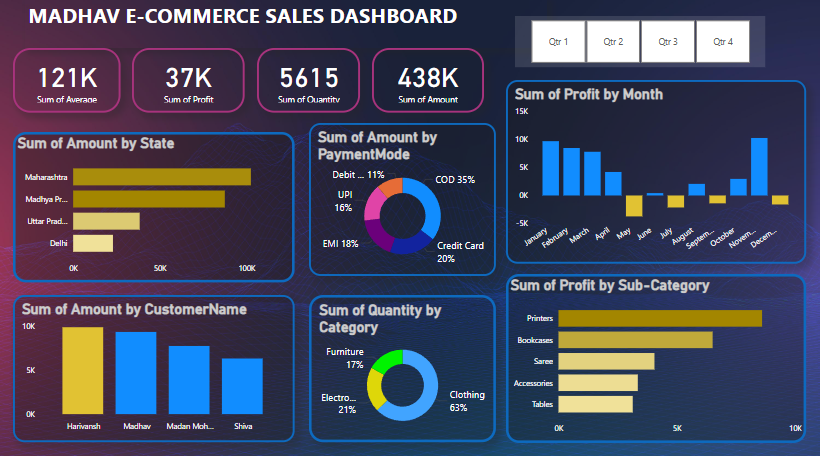

Layout of this report page (visuals, bound fields, positions):
{"tool":"powerbi","page":{"name":"Page 1","canvas":[1280,720],"ordinal":0},"visuals":[{"type":"textbox","box":[38.6,0,814.7,79],"z":0},{"type":"columnChart","fields":{"Y":["Details.Profit"],"Category":["Orders.Order Date.Variation.Date Hierarchy.Month"]},"box":[791.2,129.3,468.7,287.2],"z":1000},{"type":"clusteredBarChart","fields":{"Y":["Details.Profit"],"Category":["Details.Sub-Category"]},"box":[791.2,433.4,468.7,263.7],"z":2000},{"type":"donutChart","fields":{"Category":["Details.Category"],"Y":["Details.Quantity"]},"box":[482.1,465.3,292.3,230.1],"z":3000},{"type":"donutChart","fields":{"Category":["Details.PaymentMode"],"Y":["Details.Amount"]},"box":[482.1,196.5,292.3,238.5],"z":4000},{"type":"card","fields":{"Values":["Details.Amount"]},"box":[581.2,79,174.7,100.8],"z":5000},{"type":"card","fields":{"Values":["Details.Quantity"]},"box":[401.5,79,161.3,100.8],"z":6000},{"type":"card","fields":{"Values":["Details.Profit"]},"box":[206.6,79,176.4,100.8],"z":7000},{"type":"card","fields":{"Values":["Details.Average"]},"box":[20.2,79,168,100.8],"z":8000},{"type":"clusteredBarChart","fields":{"Y":["Details.Amount"],"Category":["Orders.State"]},"box":[20.2,211.7,440.1,235.2],"z":9000},{"type":"columnChart","fields":{"Category":["Orders.CustomerName"],"Y":["Details.Amount"]},"box":[20.2,465.3,440.1,230.1],"z":10000},{"type":"slicer","fields":{"Values":["Orders.Order Date.Variation.Date Hierarchy.Quarter"]},"box":[804.7,29.7,390.6,79.7],"z":11000}]}

Visuals, with their boxes in screenshot pixels (x1, y1, x2, y2), scaled from the page's 1280x720 canvas onto the 820x456 screenshot:
textbox: l=25, t=0, r=547, b=50
columnChart - Details.Profit x Orders.Order Date.Variation.Date Hierarchy.Month: l=507, t=82, r=807, b=264
clusteredBarChart - Details.Profit x Details.Sub-Category: l=507, t=274, r=807, b=441
donutChart - Details.Category x Details.Quantity: l=309, t=295, r=496, b=440
donutChart - Details.PaymentMode x Details.Amount: l=309, t=124, r=496, b=276
card - Details.Amount: l=372, t=50, r=484, b=114
card - Details.Quantity: l=257, t=50, r=361, b=114
card - Details.Profit: l=132, t=50, r=245, b=114
card - Details.Average: l=13, t=50, r=121, b=114
clusteredBarChart - Details.Amount x Orders.State: l=13, t=134, r=295, b=283
columnChart - Orders.CustomerName x Details.Amount: l=13, t=295, r=295, b=440
slicer - Orders.Order Date.Variation.Date Hierarchy.Quarter: l=516, t=19, r=766, b=69
